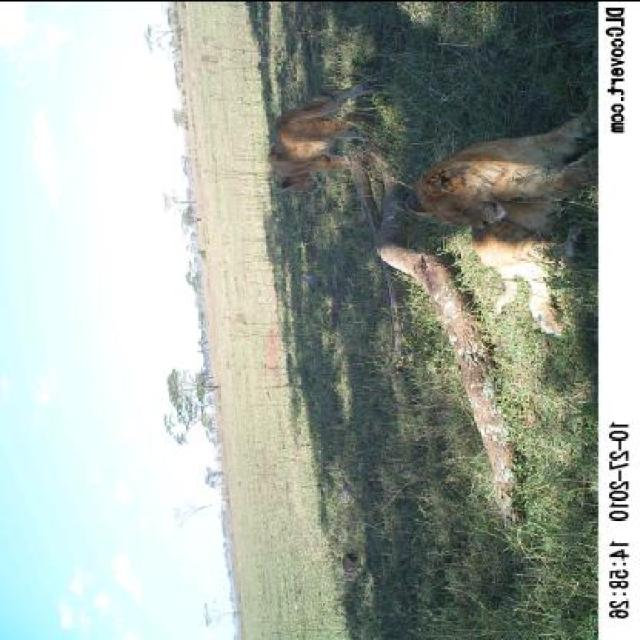Lion: (412, 115, 586, 343), (244, 62, 402, 220)
